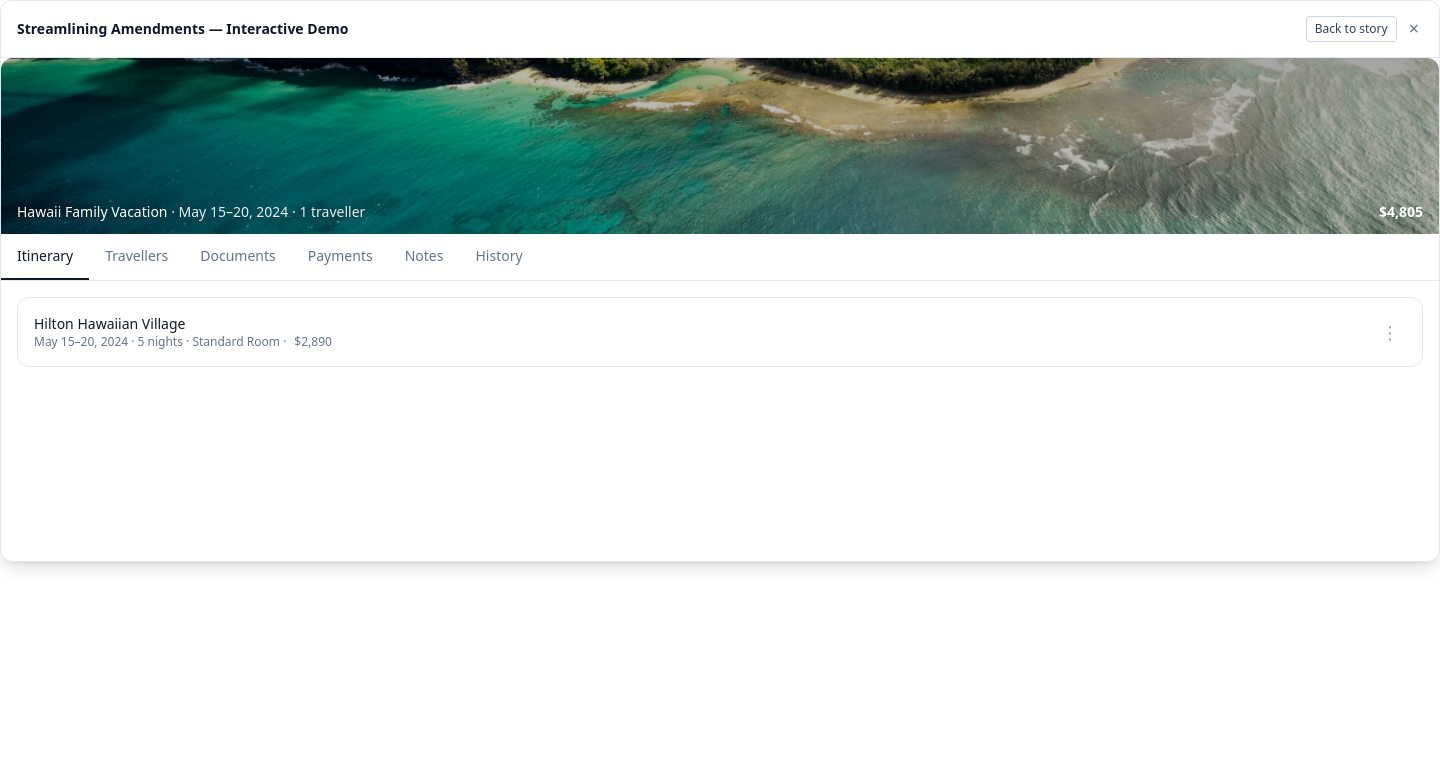
Test: Dream flow – user flows › shows Confirm when user shrinks range (takes one day off) without sold nights
The image size is (1440, 775).
Step 1. Click the button named "Actions" → (1390, 332), box [1374,316,1406,348]
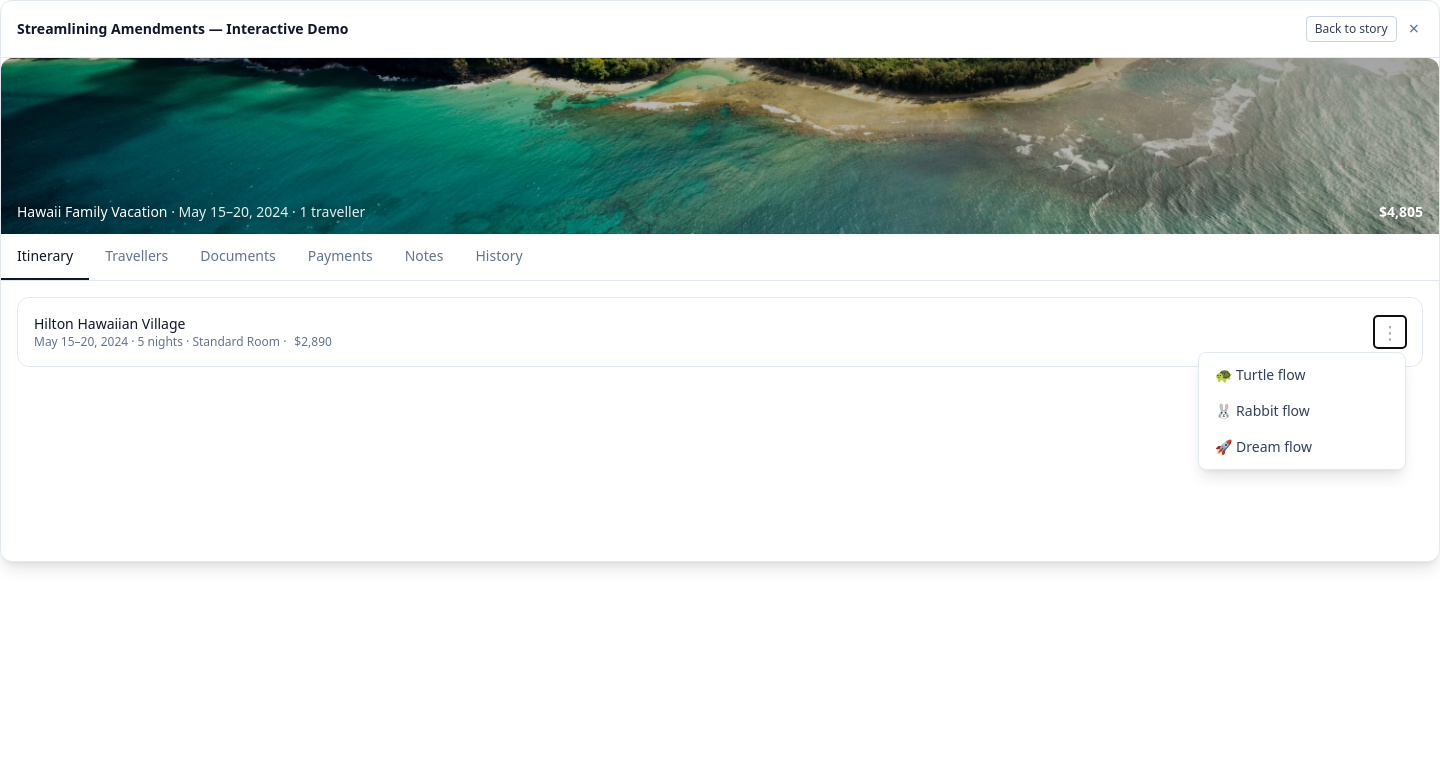
Step 2. Click the button "🚀 Dream flow" → (1302, 447), box [1199,429,1405,465]
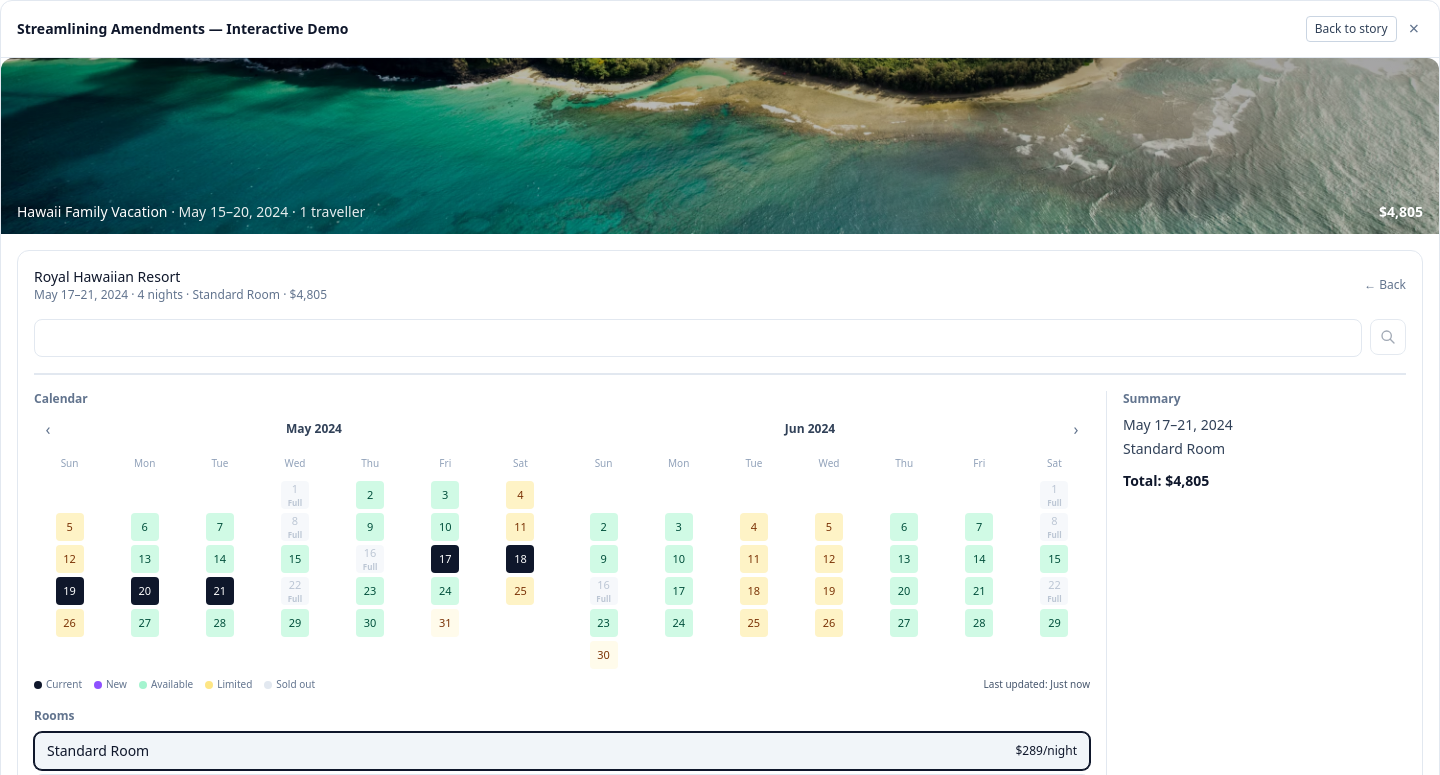
Expected: the text "May 17–21, 2024 · 4 nights · Standard Room · $4,805" is shown, [34,286,327,303]
Click day 21 (end) in May to shrink to May 17-20
Step 3. Click the 1st button "21" → (220, 591), box [206,577,234,605]
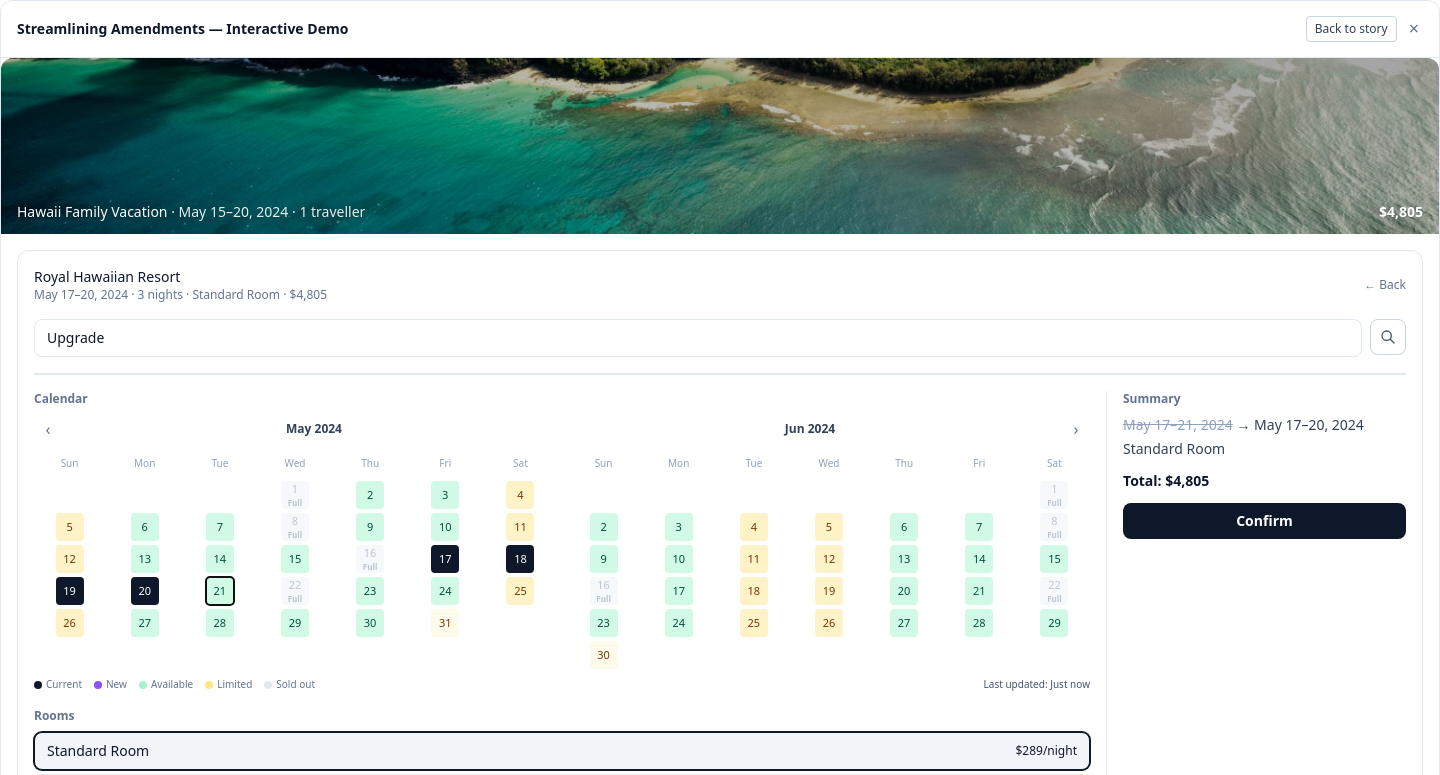
Expected: the button "Confirm" is shown, [1123,503,1406,539]
